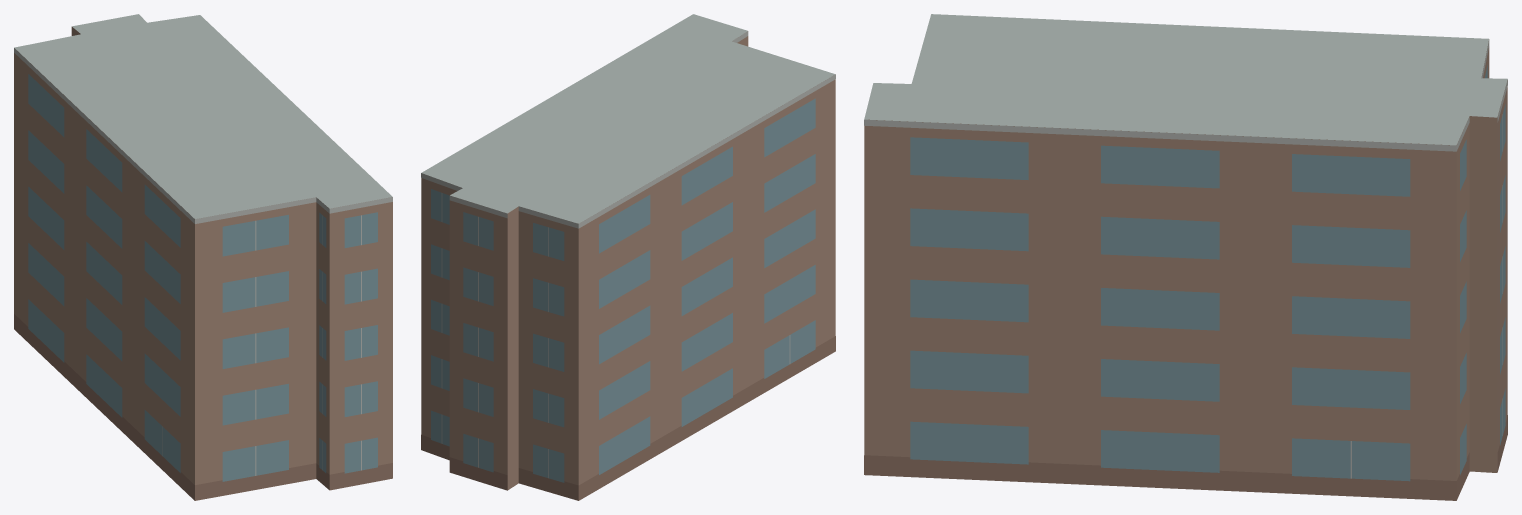
Rendered from survey-upis-32991578.glb.
3 renders of one model, left to right at view 1: azimuth 30°, elevation 25°; view 2: azimuth 150°, elevation 25°; view 3: azimuth 270°, elevation 25°, orthographic. The views are drawn at different scales.
Visible parts, largest first — view 1: survey-upis-32991578.tmp; view 2: survey-upis-32991578.tmp; view 3: survey-upis-32991578.tmp.
Boxes of the visible parts, left/top/right/bottom form: survey-upis-32991578.tmp: left=14, top=14, right=392, bottom=500; survey-upis-32991578.tmp: left=421, top=14, right=835, bottom=500; survey-upis-32991578.tmp: left=864, top=14, right=1507, bottom=500.
Size of the model in its own units: 11.03 by 13.9 by 22.82.
